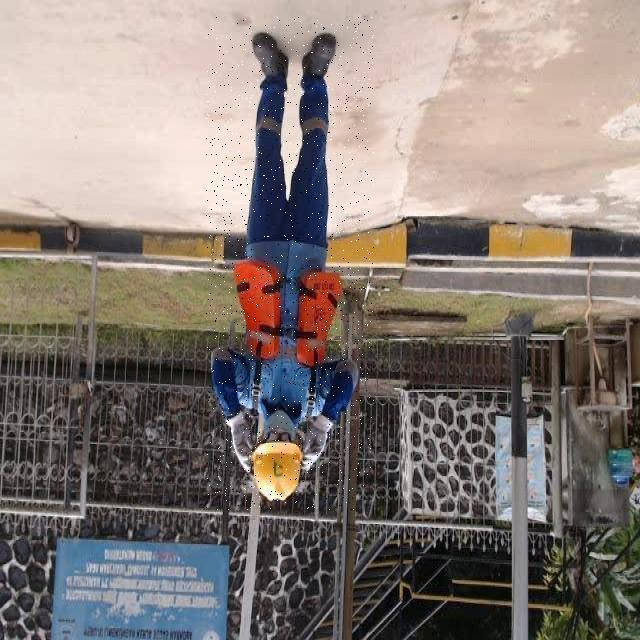gloves: (296, 414, 338, 472), (226, 407, 254, 476)
